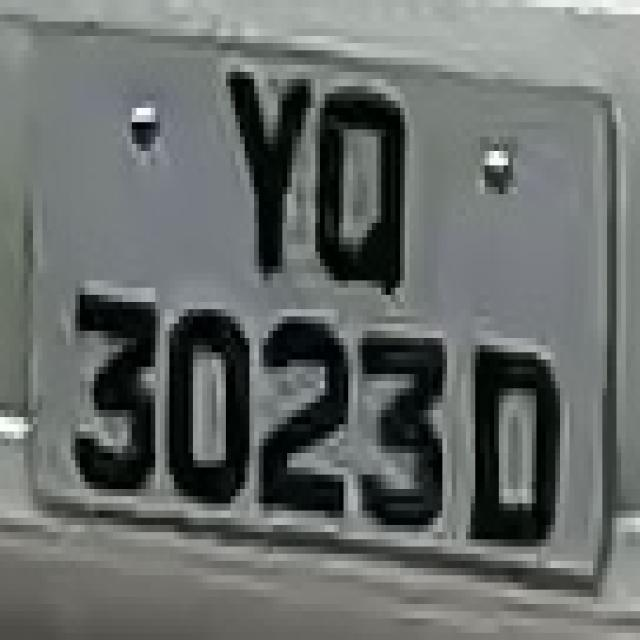0: (146, 273, 254, 532)
2: (245, 295, 348, 532)
3: (334, 295, 457, 525), (71, 259, 155, 503)
D: (456, 324, 584, 568)
Q: (306, 58, 414, 302)
Y: (226, 43, 320, 288)
